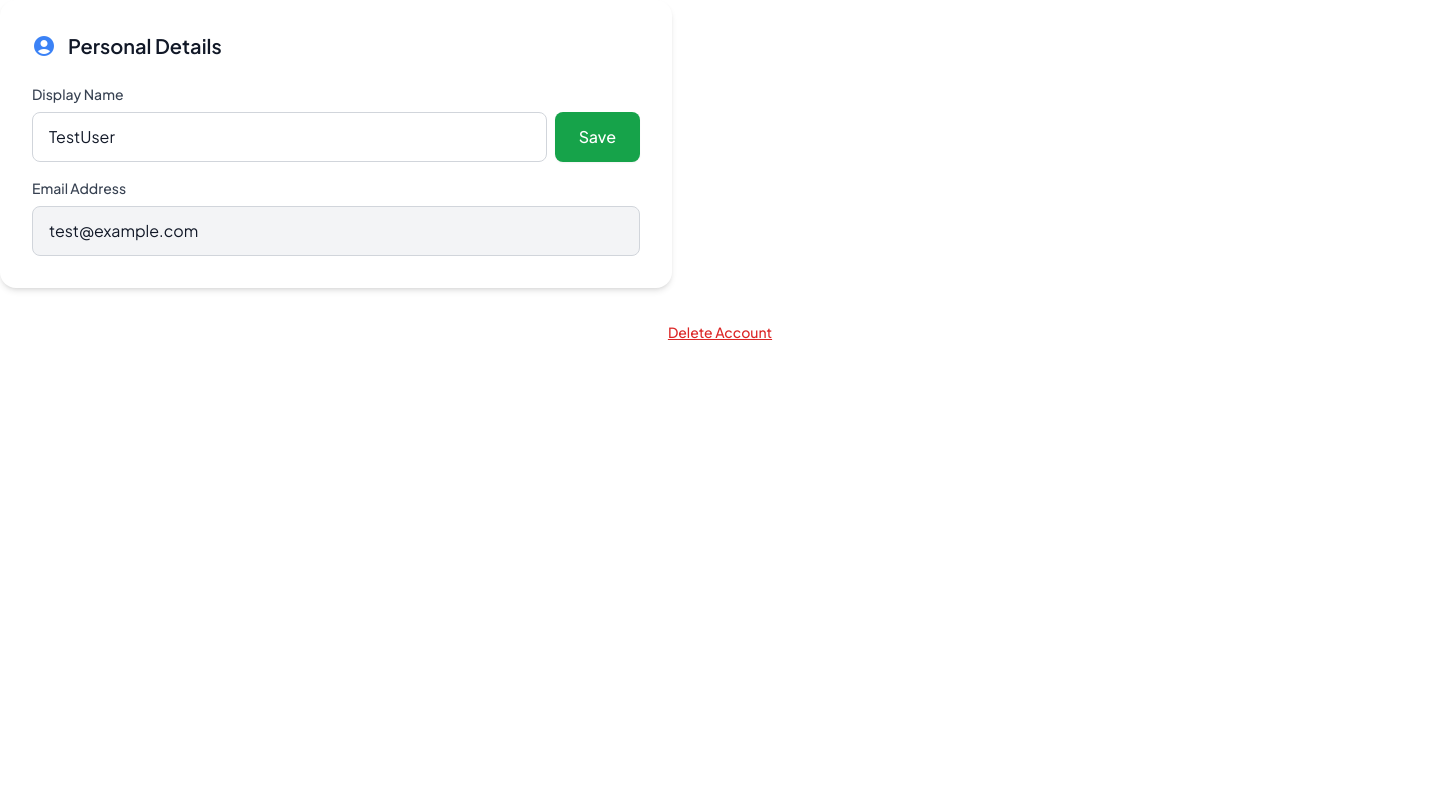
Test: ProfileCard - Account Deletion › ProfileCard_ShouldOpenDialog_WhenDeleteButtonClicked › opens confirmation dialog when delete button is clicked
Click the button "Delete Account".
click(720, 332)  # box x1=668 y1=322 x2=772 y2=342
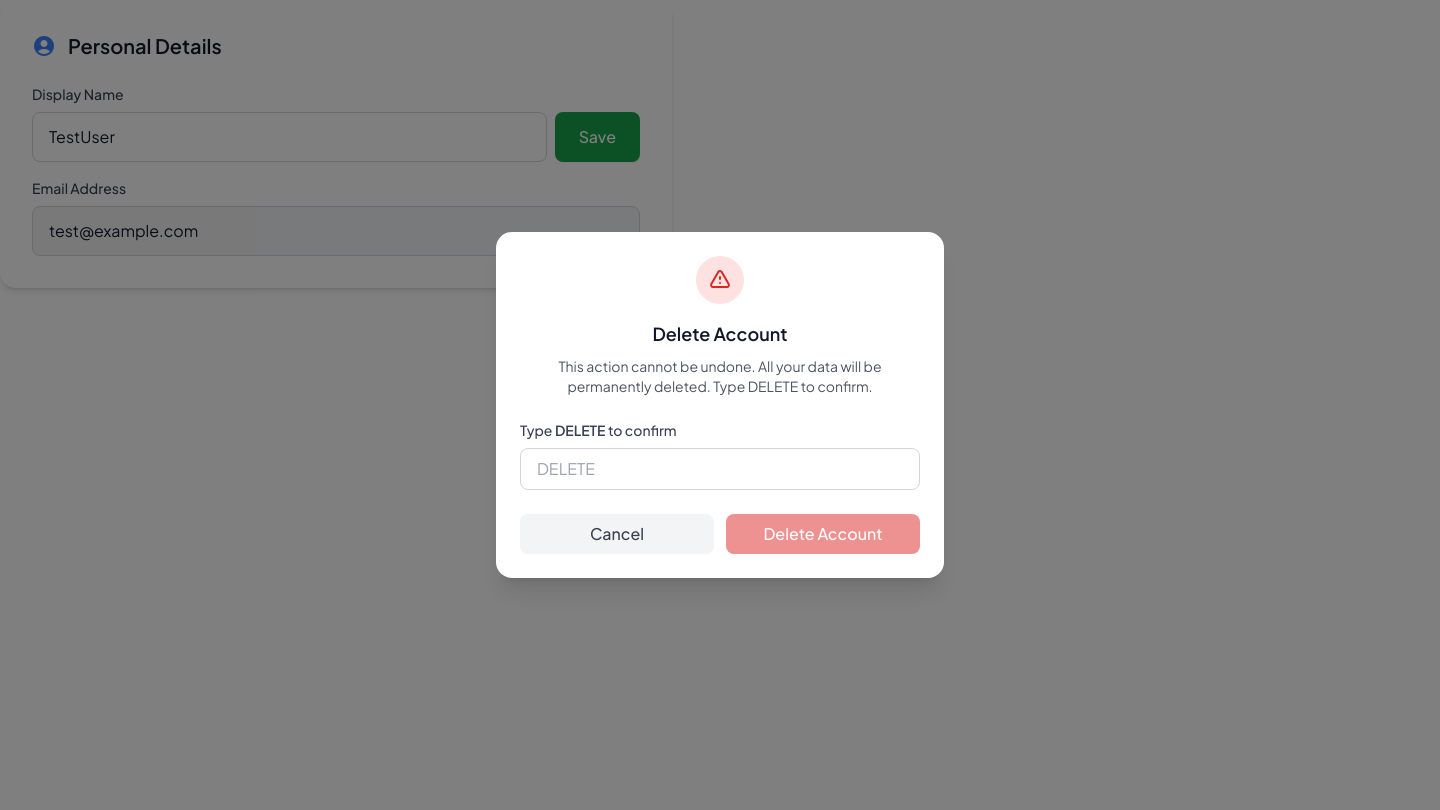
Expected: the text "type delete to confirm" is shown, x1=558 y1=357 x2=882 y2=395
